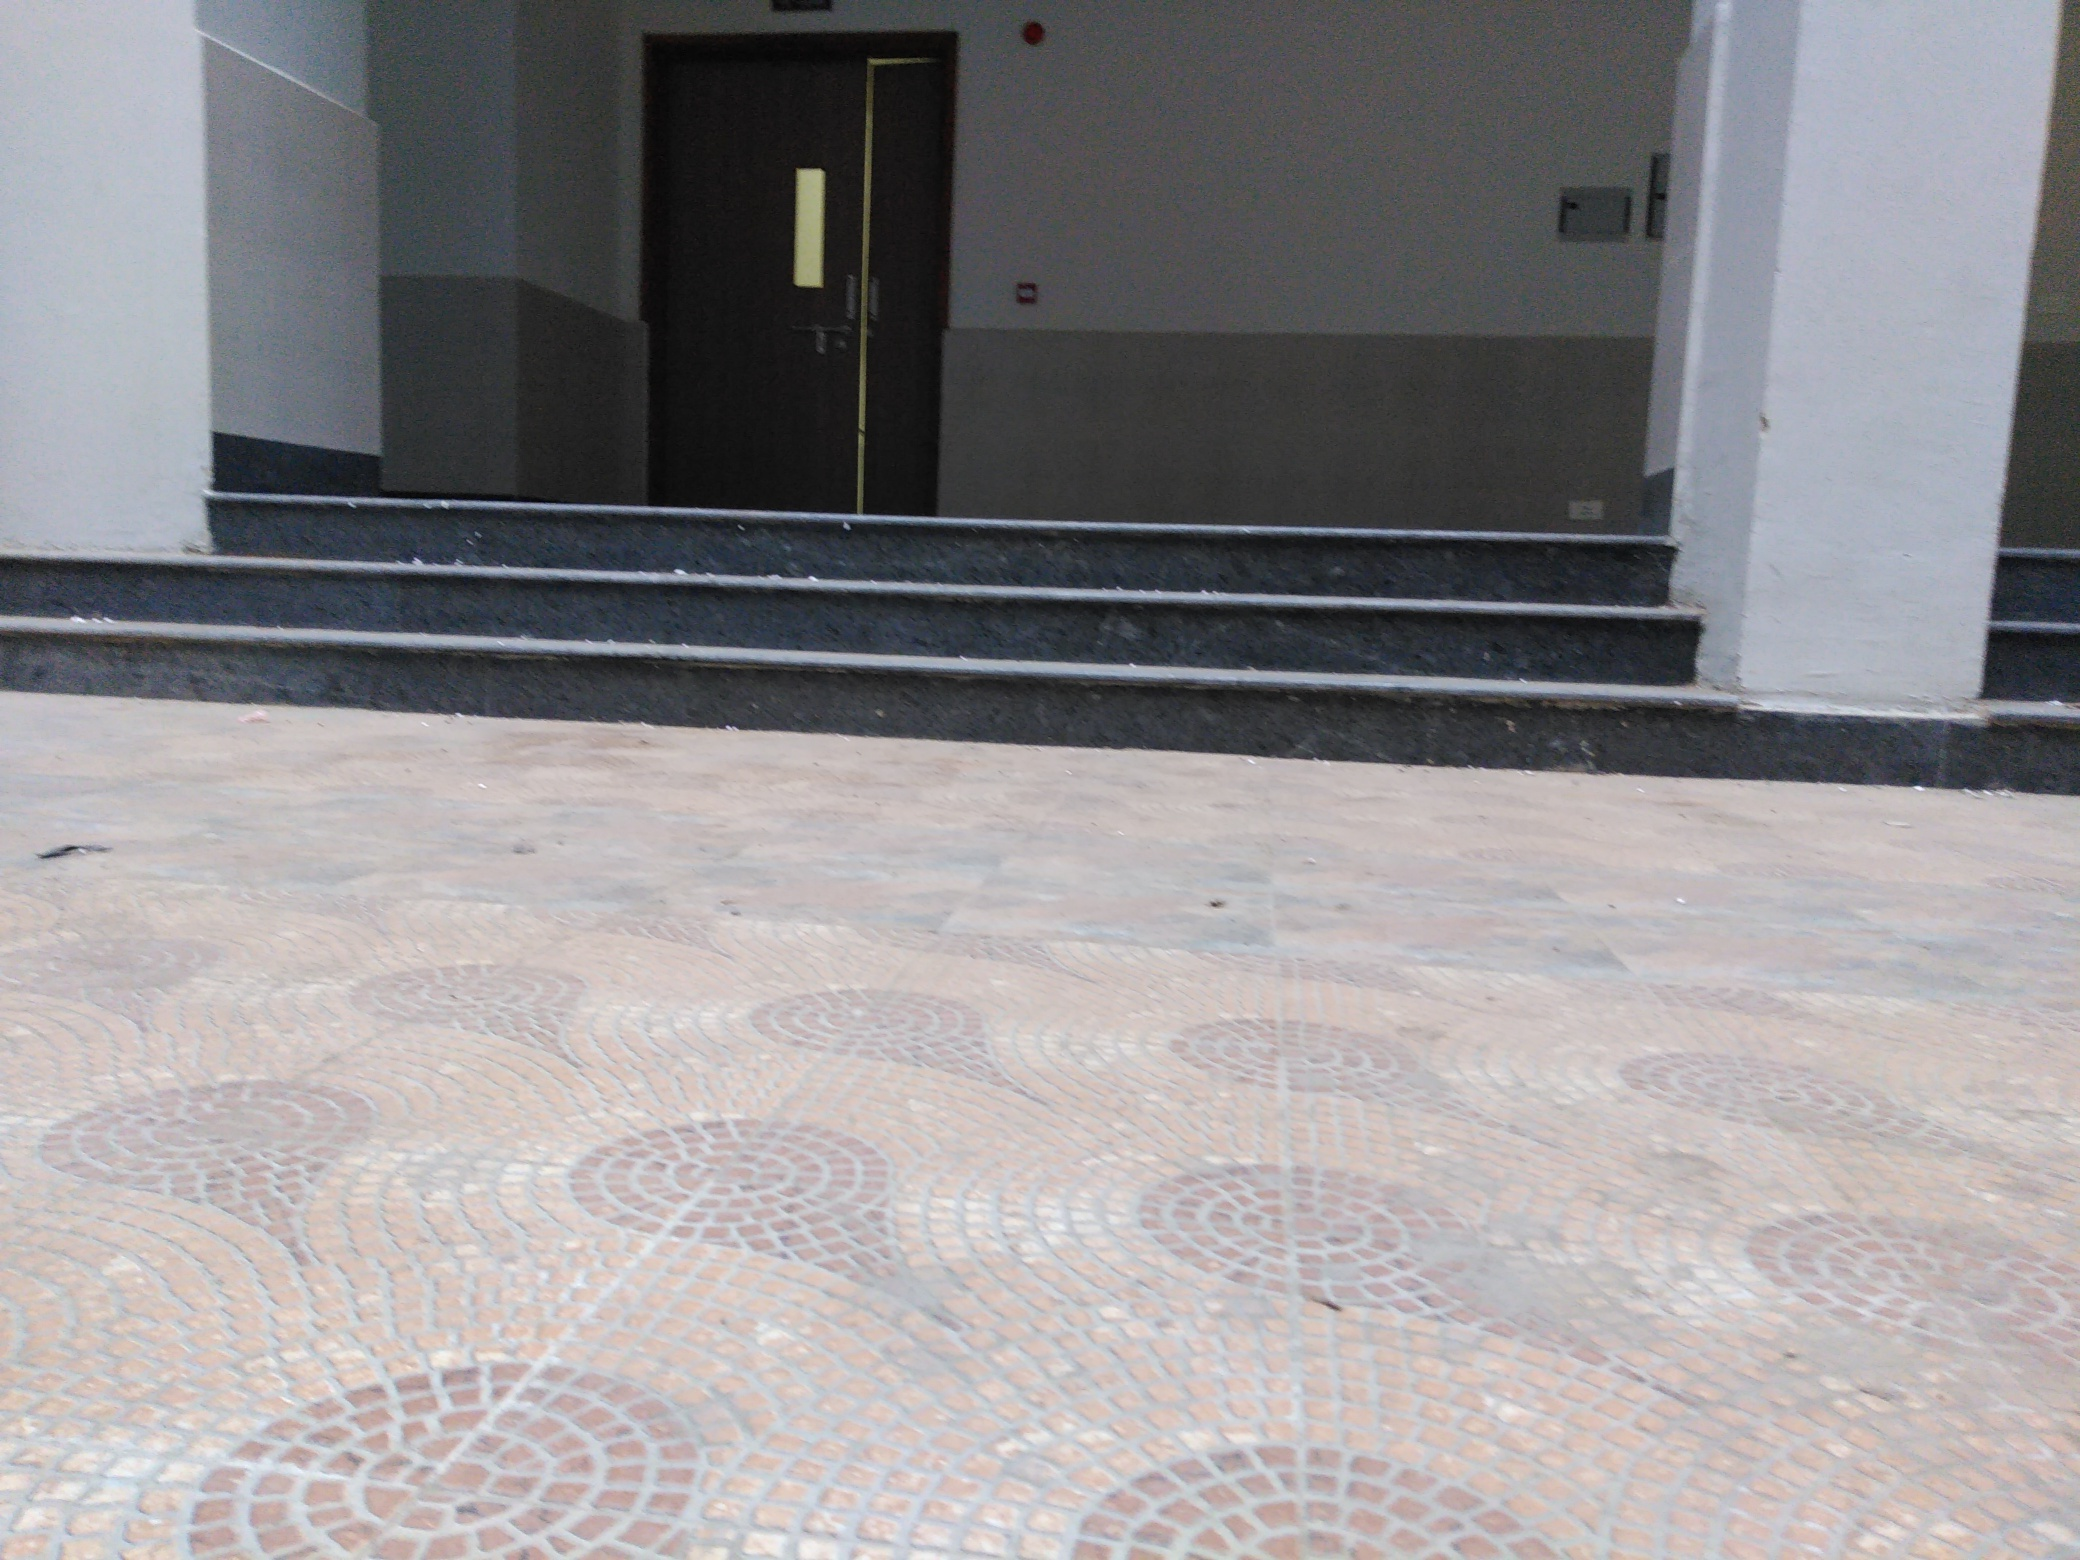stairs_up: (136, 505, 1662, 732)
